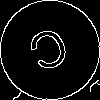C: (25, 25, 77, 82)
